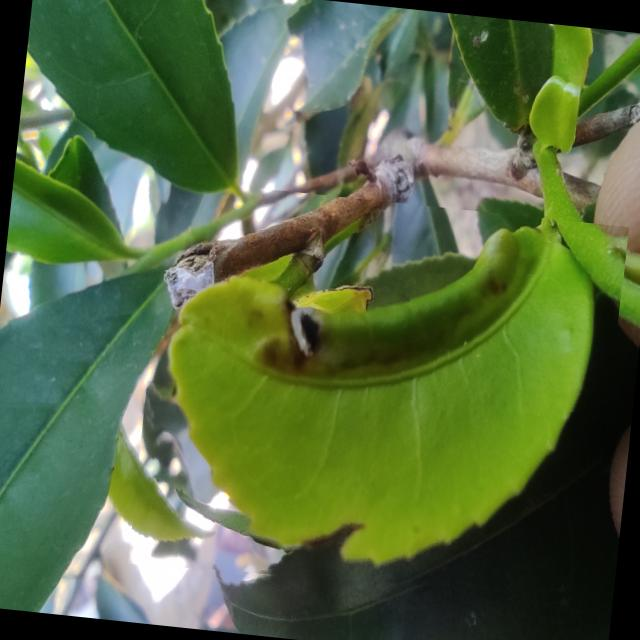Category C(4-7 days): (127, 178, 628, 610)
